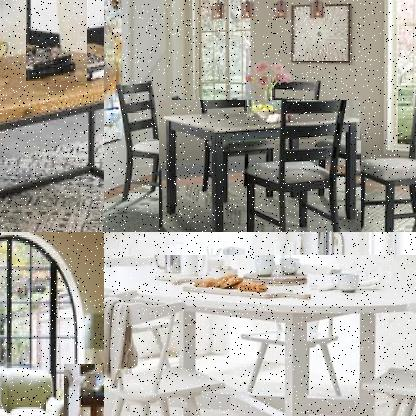table: (104, 255, 415, 415), (158, 99, 362, 231), (0, 29, 103, 231), (24, 0, 88, 83), (63, 364, 103, 415)
